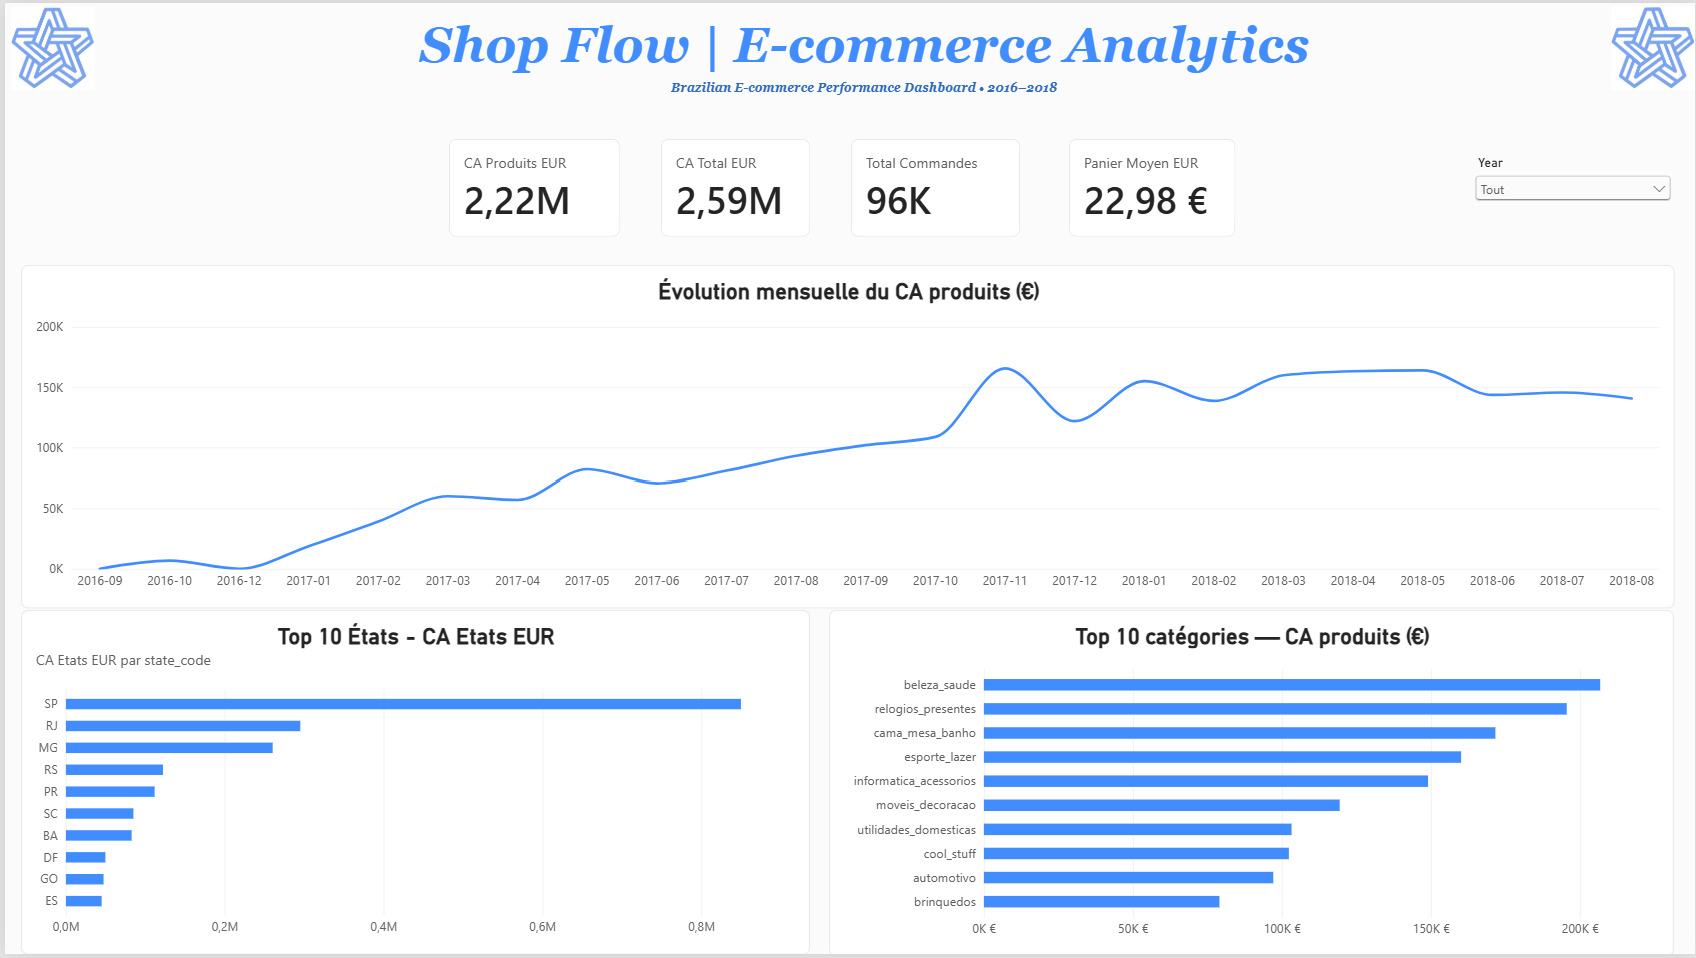

The page's visual inventory and layout, read from the dashboard file:
{"tool":"powerbi","page":{"name":"Page 1","canvas":[1920,1080],"ordinal":0},"visuals":[{"type":"cardVisual","title":"jjhjjh","fields":{"Data":["dw vw_monthly_sales.CA Produits EUR"]},"box":[503.9,154.9,194.1,111.5],"z":0},{"type":"cardVisual","fields":{"Data":["dw vw_monthly_sales.Total Commandes"]},"box":[960.2,154.9,192,111.5],"z":1000},{"type":"cardVisual","fields":{"Data":["dw vw_monthly_sales.CA Total EUR"]},"box":[745.5,154.9,169.3,111.5],"z":2000},{"type":"cardVisual","fields":{"Data":["dw vw_monthly_sales.Panier Moyen EUR"]},"box":[1208,154.9,190,111.5],"z":3000},{"type":"lineChart","title":"Évolution mensuelle du CA produits (€)","fields":{"Category":["dw vw_monthly_sales.year_month"],"Y":["dw vw_monthly_sales.CA Produits EUR"]},"box":[18.2,298,1879.1,389],"z":4000},{"type":"slicer","fields":{"Values":["dw vw_monthly_sales.sales_year"]},"box":[1665.2,172.9,232,63.7],"z":5000},{"type":"clusteredBarChart","title":"Top 10 catégories — CA produits (€)","fields":{"Category":["dw vw_top_categories.product_category"],"Y":["dw vw_top_categories.CA Categories EUR"]},"box":[937.3,689.3,960,393.6],"z":6000},{"type":"clusteredBarChart","title":"Top 10 États - CA Etats EUR","fields":{"Category":["dw vw_sales_by_state.state_code"],"Y":["dw vw_sales_by_state.CA Etats EUR"]},"box":[18.2,689.3,896.3,391.3],"z":7000},{"type":"textbox","box":[131.9,15.9,1690.2,86.4],"z":8000},{"type":"image","box":[6.2,0,95,103.3],"z":9000},{"type":"image","box":[1824.5,0,95.5,102.4],"z":9001},{"type":"textbox","box":[757.9,86.7,479.1,51.6],"z":9002}]}

Visuals, with their boxes in screenshot pixels (x1, y1, x2, y2), scaled from the page's 1920x1080 canvas onto the 1696x958 screenshot:
"jjhjjh" cardVisual: {"left": 445, "top": 137, "right": 617, "bottom": 236}
cardVisual - dw vw_monthly_sales.Total Commandes: {"left": 848, "top": 137, "right": 1018, "bottom": 236}
cardVisual - dw vw_monthly_sales.CA Total EUR: {"left": 659, "top": 137, "right": 808, "bottom": 236}
cardVisual - dw vw_monthly_sales.Panier Moyen EUR: {"left": 1067, "top": 137, "right": 1235, "bottom": 236}
"Évolution mensuelle du CA produits (€)" lineChart: {"left": 16, "top": 264, "right": 1676, "bottom": 609}
slicer - dw vw_monthly_sales.sales_year: {"left": 1471, "top": 153, "right": 1676, "bottom": 210}
"Top 10 catégories — CA produits (€)" clusteredBarChart: {"left": 828, "top": 611, "right": 1676, "bottom": 957}
"Top 10 États - CA Etats EUR" clusteredBarChart: {"left": 16, "top": 611, "right": 808, "bottom": 957}
textbox: {"left": 117, "top": 14, "right": 1610, "bottom": 91}
image: {"left": 5, "top": 0, "right": 89, "bottom": 92}
image: {"left": 1612, "top": 0, "right": 1695, "bottom": 91}
textbox: {"left": 669, "top": 77, "right": 1093, "bottom": 123}
